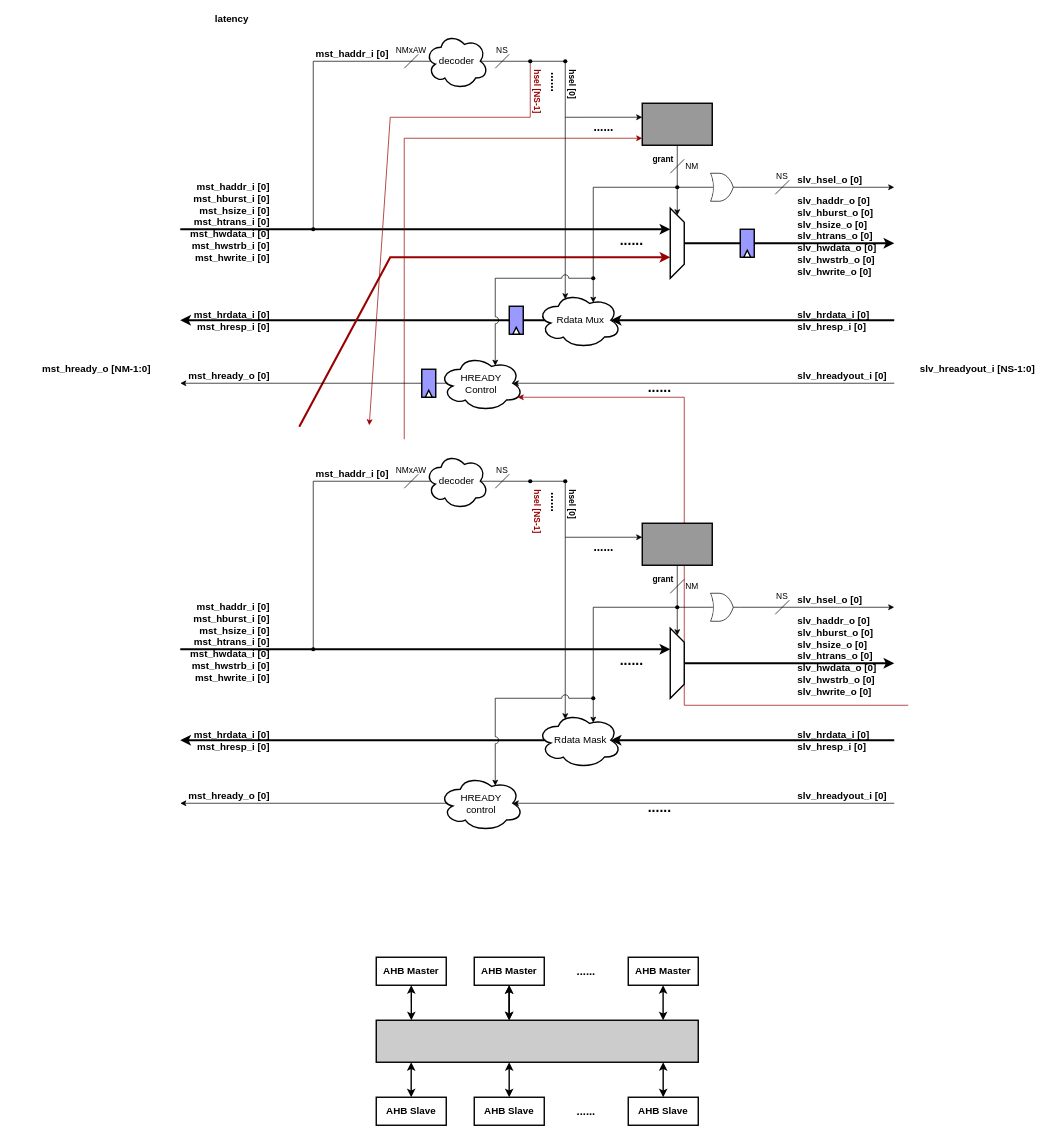
The diagram is 1060 pixels wide and 1138 high, and some of its shapes have lost their labels. The centre of each missing label's shape, as x and y in pixels:
A rbiter #(NS-1): (677,544)
A rbiter #0: (677,124)
AHB Interconnect: (537,1041)
